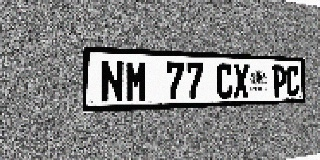7: (165, 62, 184, 101), (185, 62, 204, 100)
C: (216, 63, 233, 99), (286, 65, 299, 97)
M: (125, 60, 148, 102)
N: (100, 60, 124, 103)
P: (272, 65, 286, 97)
X: (233, 64, 249, 98)
